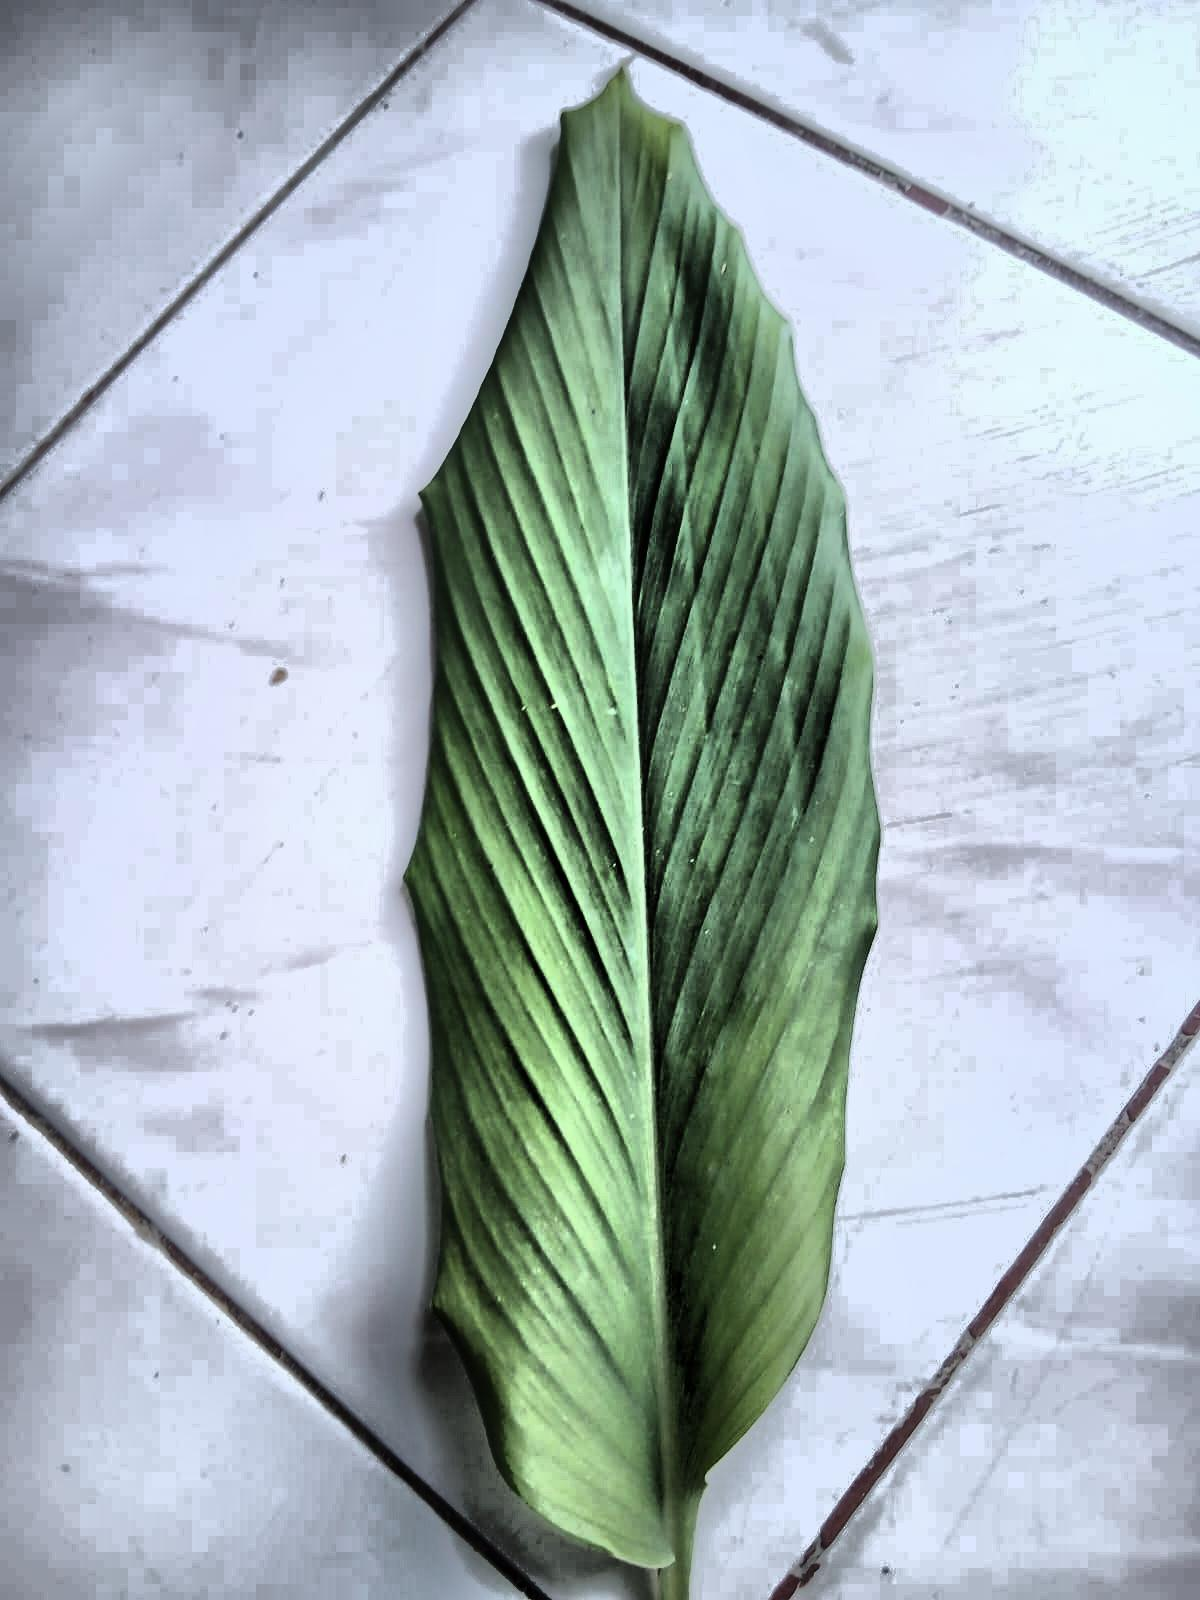daun kunyit: (407, 73, 879, 1599)
